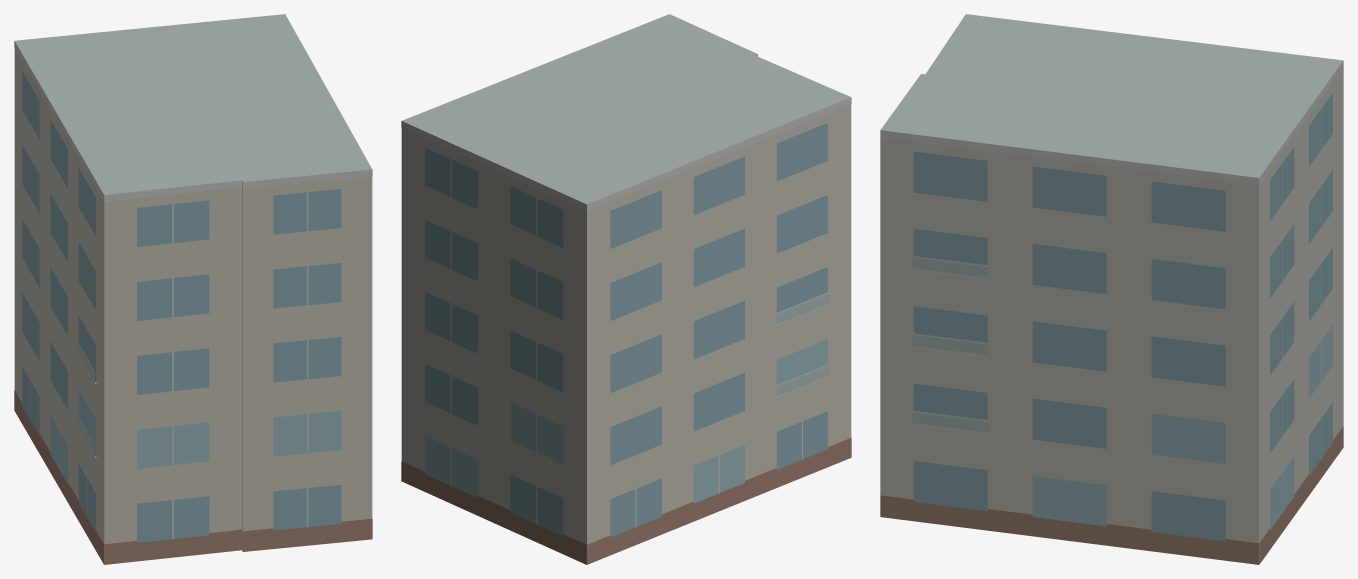
Rendered from survey-upis-32929949.glb.
3 renders of one model, left to right at view 1: azimuth 30°, elevation 25°; view 2: azimuth 150°, elevation 25°; view 3: azimuth 270°, elevation 25°, orthographic. The views are drawn at different scales.
Parts seen in each view (by area): view 1: survey-upis-32929949.tmp; view 2: survey-upis-32929949.tmp; view 3: survey-upis-32929949.tmp.
Part boxes in pixels (bbox=[...]): survey-upis-32929949.tmp: bbox=[14, 14, 372, 564]; survey-upis-32929949.tmp: bbox=[401, 14, 851, 564]; survey-upis-32929949.tmp: bbox=[880, 14, 1343, 564].
Size of the model in its own units: 11.92 by 13.1 by 14.23.
